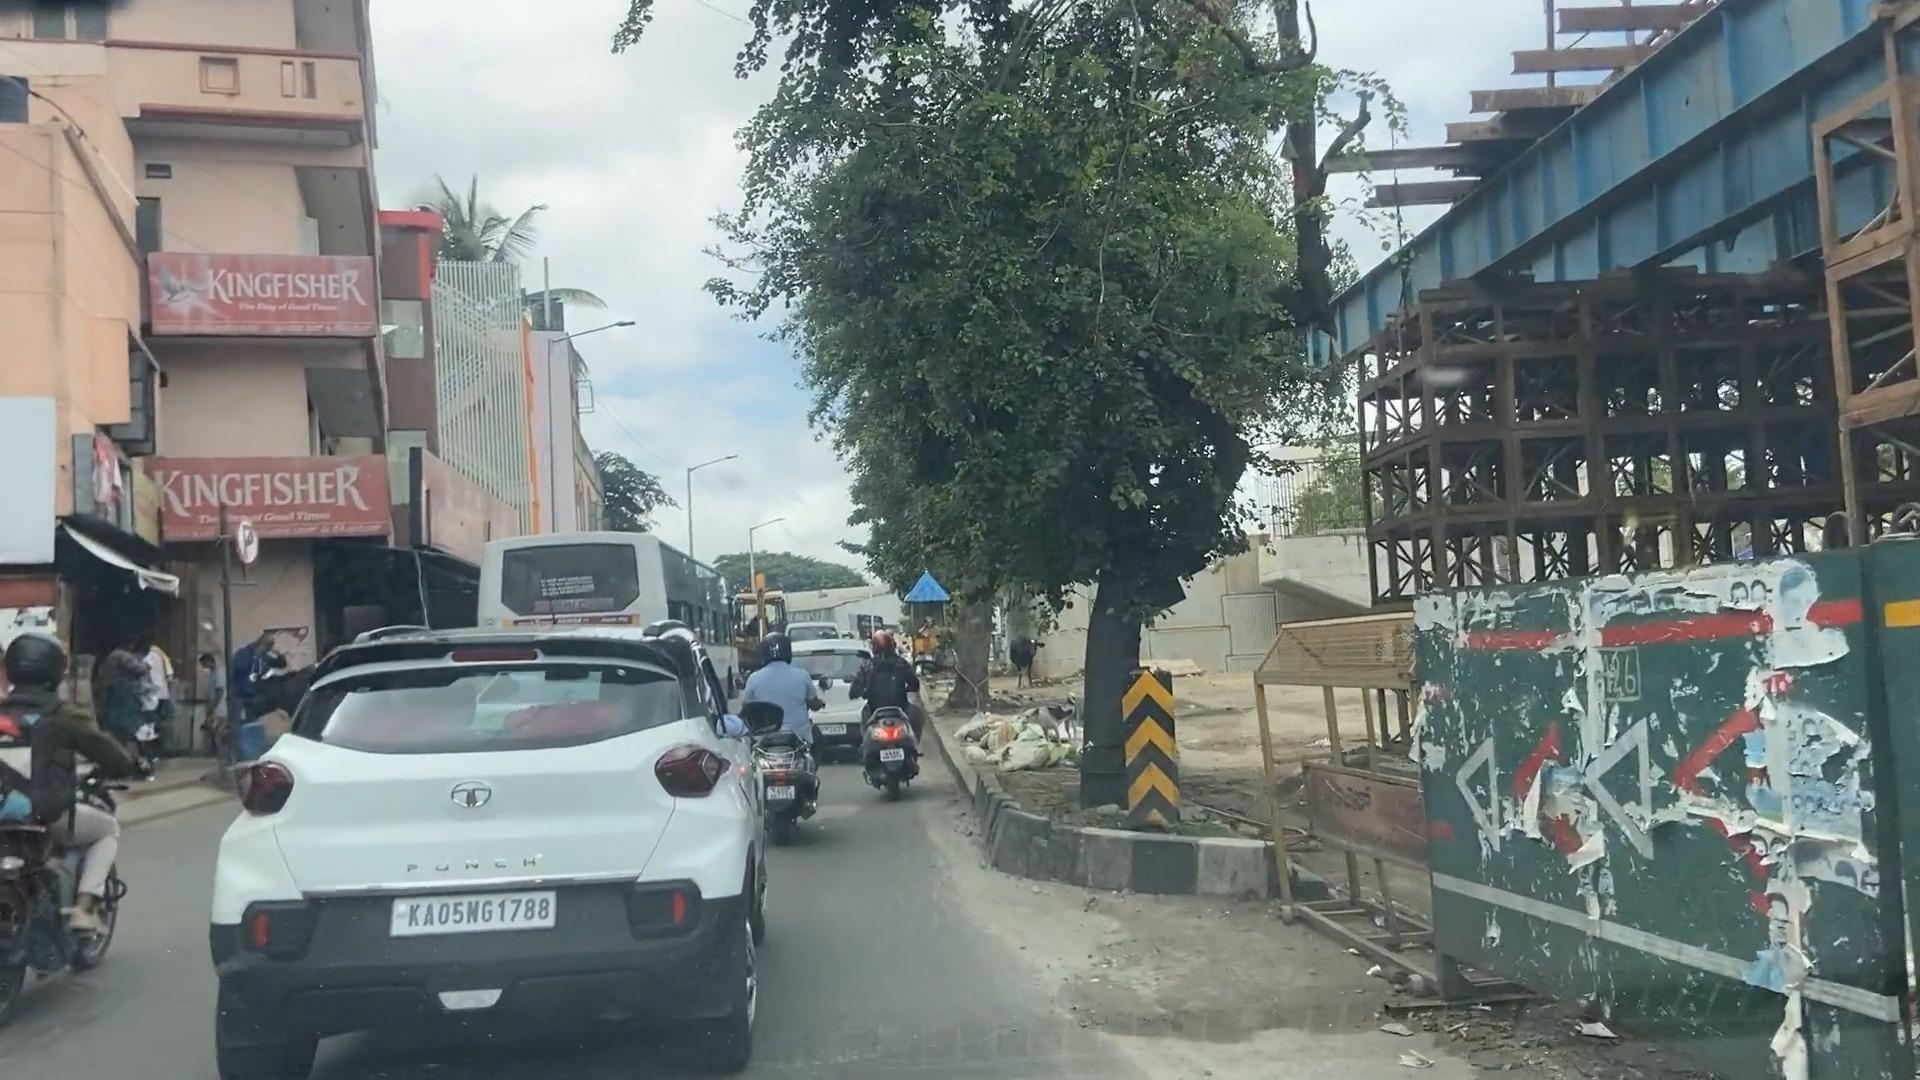LMV: (236, 682, 738, 1080), (752, 630, 819, 810), (858, 632, 918, 783)
RoadDamages: (998, 895, 1302, 1075)
